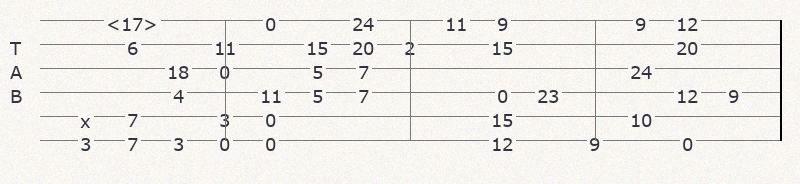0: (219, 60, 234, 77), (219, 132, 234, 149), (265, 12, 280, 29), (265, 132, 280, 149), (265, 108, 280, 125), (497, 84, 512, 101), (682, 132, 697, 149)
10: (630, 108, 656, 125)
11: (214, 36, 240, 53), (260, 84, 286, 101), (445, 12, 471, 29)
12: (491, 132, 517, 149), (676, 12, 702, 29), (676, 84, 702, 101)
15: (306, 36, 332, 53), (491, 36, 517, 53), (491, 108, 517, 125)
18: (167, 60, 193, 77)
2: (404, 36, 419, 53)
20: (352, 36, 378, 53), (676, 36, 702, 53)
23: (537, 84, 563, 101)
24: (352, 12, 378, 29), (630, 60, 656, 77)
3: (80, 132, 95, 149), (173, 132, 188, 149), (219, 108, 234, 125)
4: (173, 84, 188, 101)
5: (312, 84, 327, 101), (312, 60, 327, 77)
6: (127, 36, 142, 53)
7: (127, 132, 142, 149), (127, 108, 142, 125), (358, 84, 373, 101), (358, 60, 373, 77)
9: (497, 12, 512, 29), (589, 132, 604, 149), (635, 12, 650, 29), (728, 84, 743, 101)
harmonic: (106, 12, 162, 29)
x: (80, 109, 95, 123)
